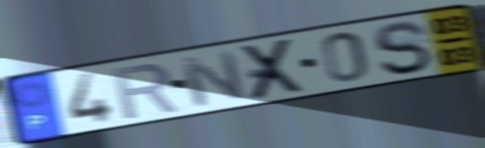0: (320, 29, 373, 86)
4: (65, 70, 117, 126)
N: (176, 48, 250, 110)
R: (110, 60, 181, 122)
S: (371, 19, 435, 78)
X: (239, 35, 309, 103)
